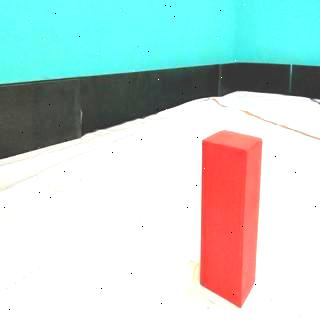redbox: (200, 128, 263, 307)
